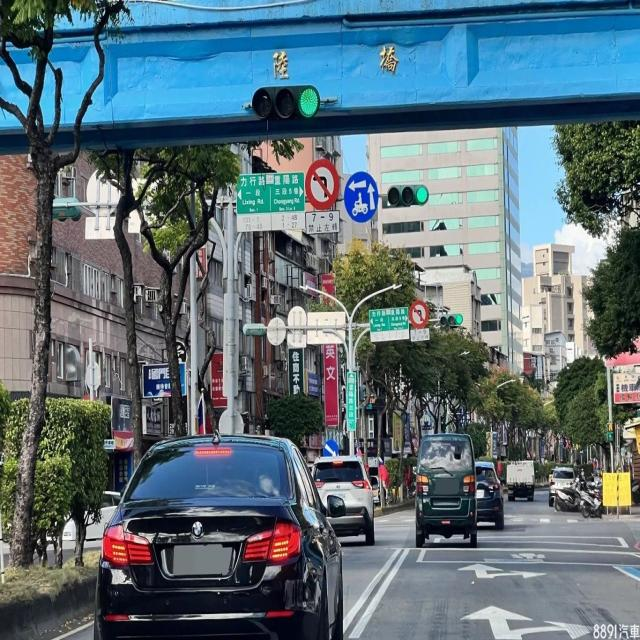green light: (251, 83, 321, 123), (386, 183, 431, 207), (439, 314, 465, 328)
